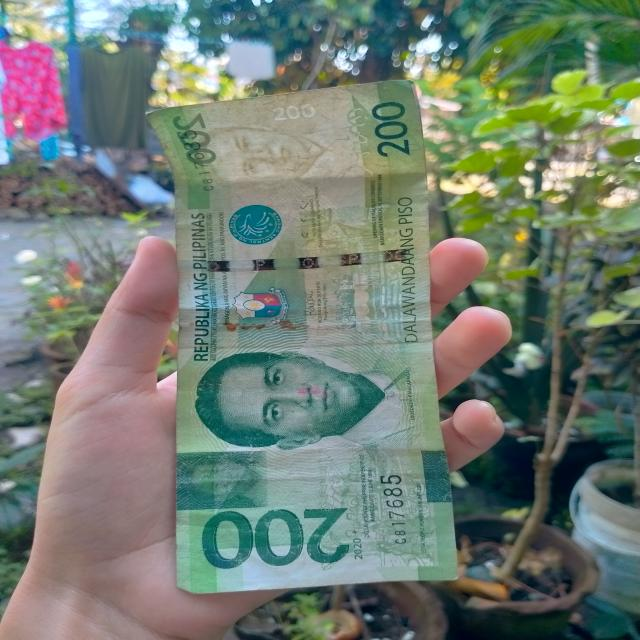concealed_value: (175, 450, 268, 508)
security_thread: (179, 247, 431, 272)
see_through_mark: (341, 108, 378, 192)
serial_number: (378, 468, 412, 554)
value: (202, 503, 348, 573)
value_watermark: (270, 101, 323, 123)
watermark: (196, 114, 362, 207)
